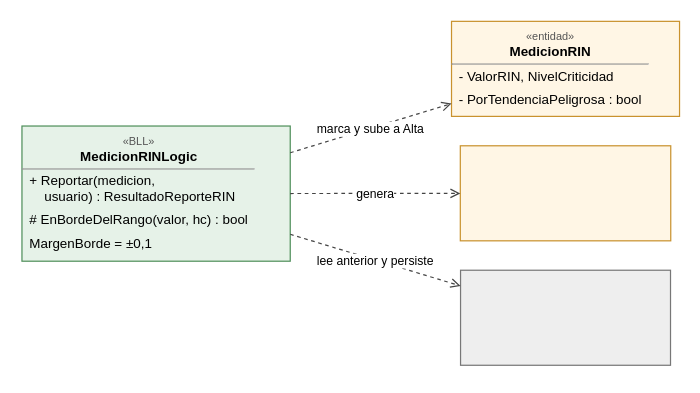
Image size: 700x393. Some labels were removed from this diagram. Each missing label, with the centre of its shape:
«EF Core» NegocioDbContext + SaveChanges() : int (firma DVH/DVV y audita): pixel 565 317
«entidad» Alerta - Tipo = TendenciaPeligrosa - NivelCriticidad = Alta: pixel 565 193
